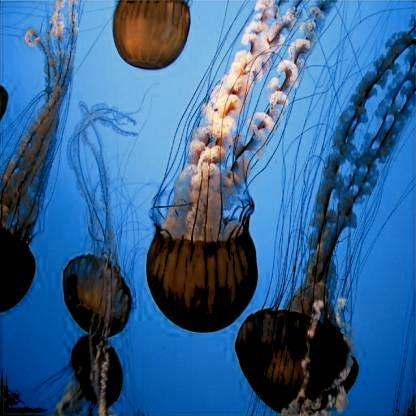Dressed: (235, 17, 415, 411), (145, 1, 331, 333), (3, 5, 77, 312), (62, 100, 134, 341), (54, 335, 124, 416), (115, 3, 191, 76)
